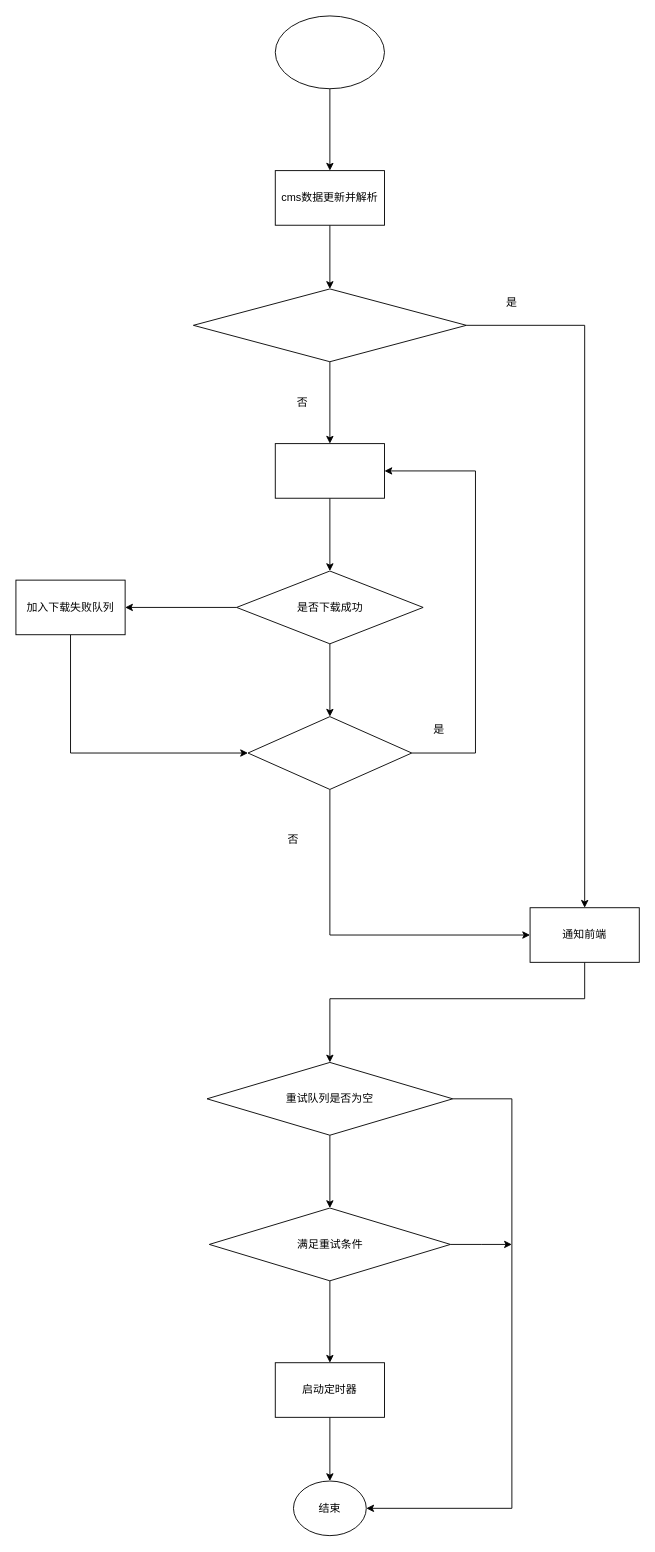
The diagram is 655 pixels wide and 1552 high, and some of its shapes have lost their labels. The box of each missing label's shape, as (x1, y1, x2, y2) in pixels:
下载流程: (274, 443, 384, 498)
判断壁纸缩略图信息是否在本地: (192, 288, 466, 362)
开始: (274, 15, 384, 89)
检查下载队列是否还有任务: (247, 716, 412, 789)
